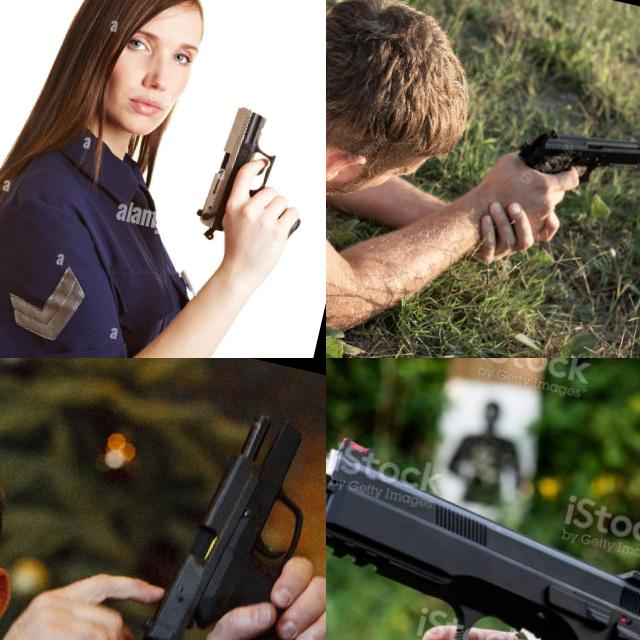handgun: (326, 427, 640, 640), (131, 391, 326, 640), (186, 96, 326, 261), (508, 107, 640, 207)
